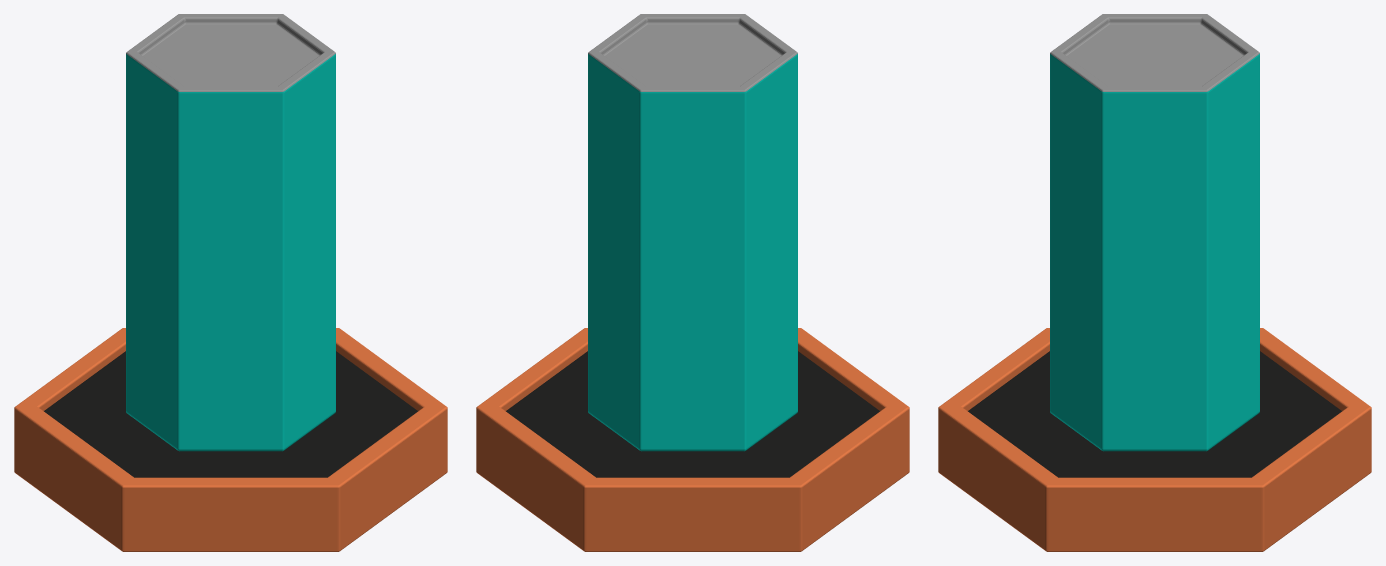
The model's file is blok3.fbx.
3 views of the same model, side by side, from view 1: azimuth 30°, elevation 25°; view 2: azimuth 150°, elevation 25°; view 3: azimuth 270°, elevation 25° (orthographic).
Parts seen in each view (by area): view 1: Circle; view 2: Circle; view 3: Circle.
Part boxes in pixels (x1,y1,x2,y2): Circle: (14,14,447,551); Circle: (476,14,909,551); Circle: (938,14,1371,551).
Size of the model in its own units: 173 by 214 by 200.
